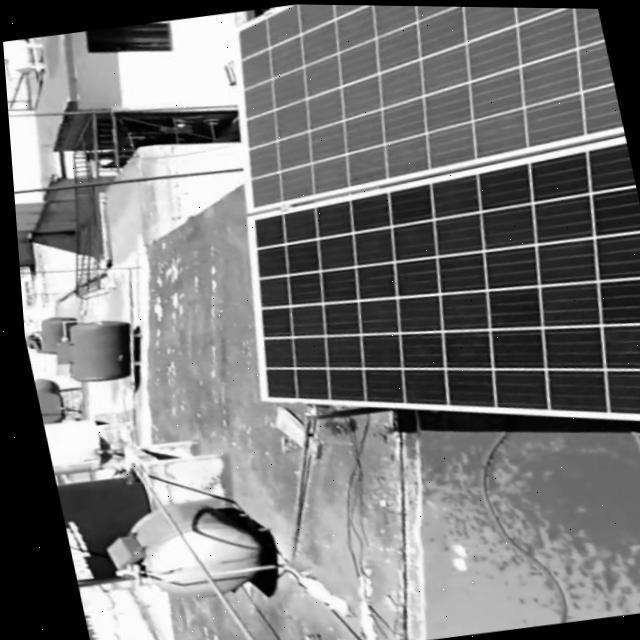Normal Solar Panel: (219, 136, 640, 472)
